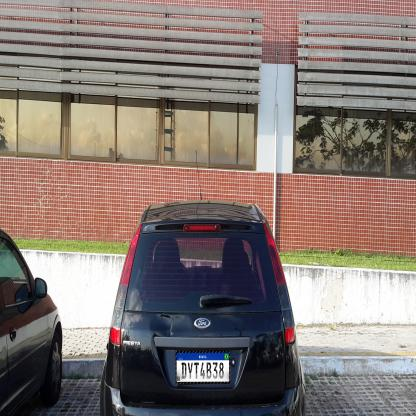PlacaM: (176, 351, 230, 384)
